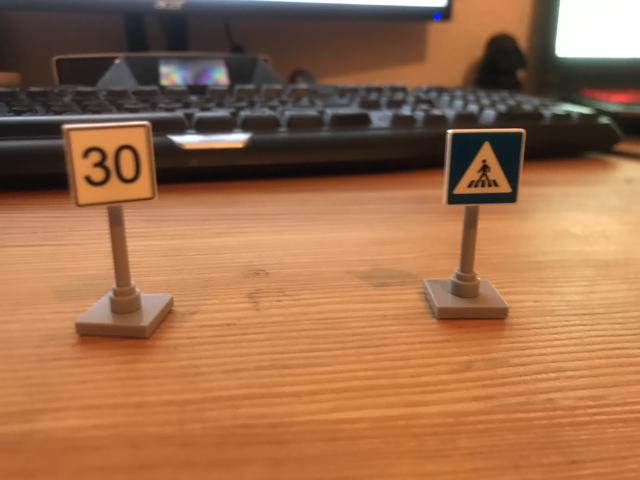fußgängerüberweg: (448, 126, 522, 208)
tempolimit 30: (63, 120, 158, 208)
